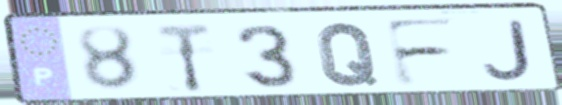3: (234, 23, 302, 90)
8: (74, 24, 139, 97)
F: (379, 16, 461, 90)
J: (479, 18, 537, 84)
Q: (313, 20, 381, 89)
T: (153, 21, 215, 95)
